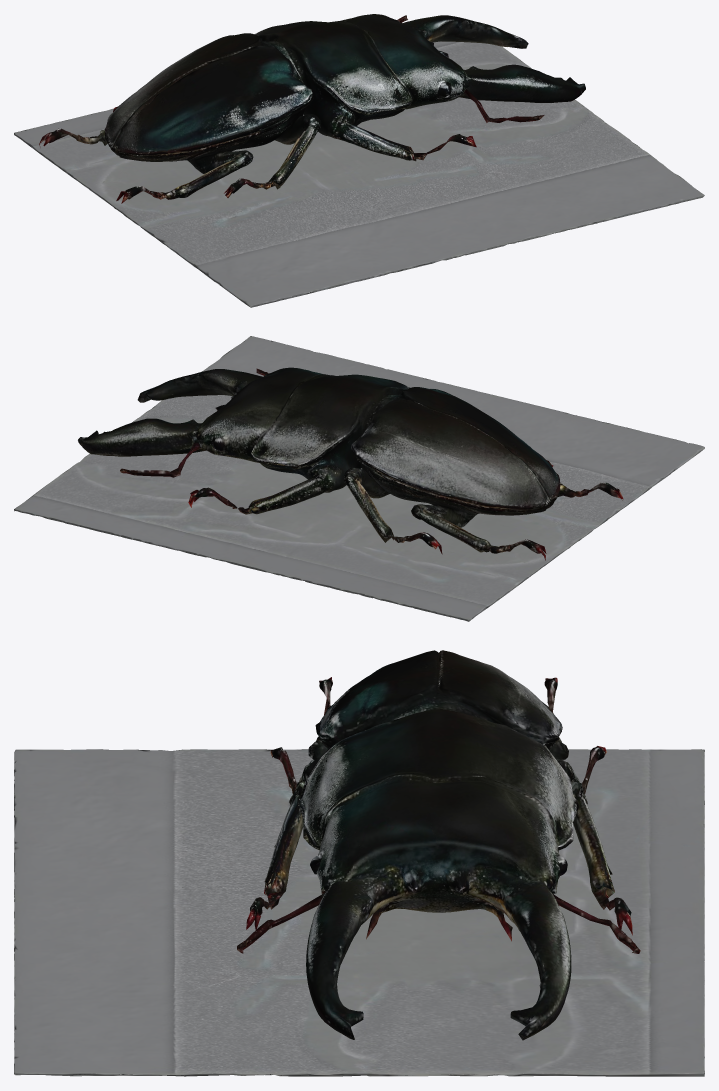
The model's file is 巴拉望.glb.
3 views of the same model, one above another, from view 1: azimuth 30°, elevation 25°; view 2: azimuth 150°, elevation 25°; view 3: azimuth 270°, elevation 25° (orthographic). The views are drawn at different scales.
Parts seen in each view (by area): view 1: tripo_node_cce32392-4fd7-4900-b263-017d4e866aa2; view 2: tripo_node_cce32392-4fd7-4900-b263-017d4e866aa2; view 3: tripo_node_cce32392-4fd7-4900-b263-017d4e866aa2.
Part boxes in pixels (left/top/right/bottom): tripo_node_cce32392-4fd7-4900-b263-017d4e866aa2: left=14, top=14, right=704, bottom=307; tripo_node_cce32392-4fd7-4900-b263-017d4e866aa2: left=14, top=336, right=704, bottom=621; tripo_node_cce32392-4fd7-4900-b263-017d4e866aa2: left=14, top=650, right=704, bottom=1076.
Bounding box in the file's own units: 0.9784 × 0.2344 × 0.8342.
1 material, 1 textured.
